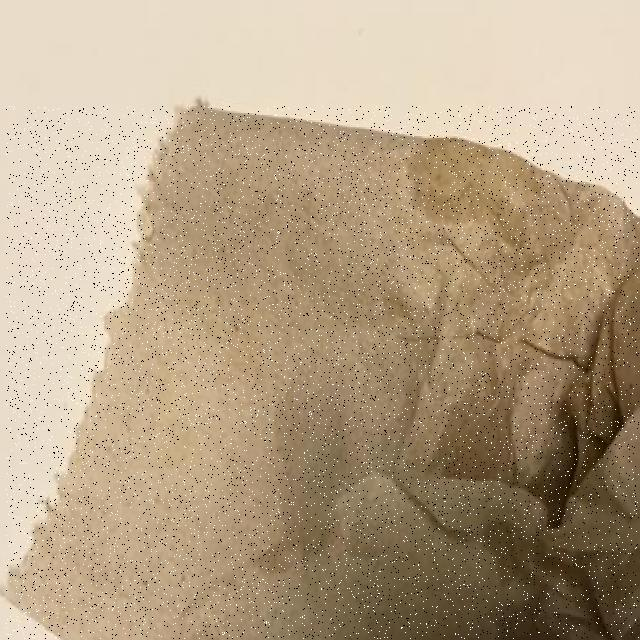paper: (6, 106, 639, 640)
